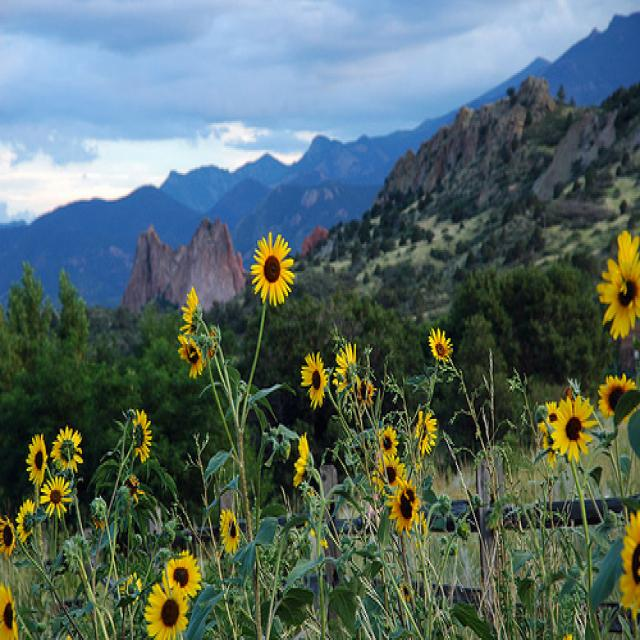sunflower: (591, 233, 640, 340), (544, 388, 602, 467), (250, 227, 297, 311), (140, 580, 194, 640), (595, 367, 640, 425), (161, 550, 206, 598), (46, 421, 86, 475), (389, 477, 423, 534), (300, 350, 330, 411), (212, 506, 248, 556), (128, 407, 157, 467), (411, 404, 440, 461), (41, 477, 77, 522), (12, 494, 40, 546), (424, 323, 456, 367), (23, 436, 51, 484), (293, 433, 315, 490)
